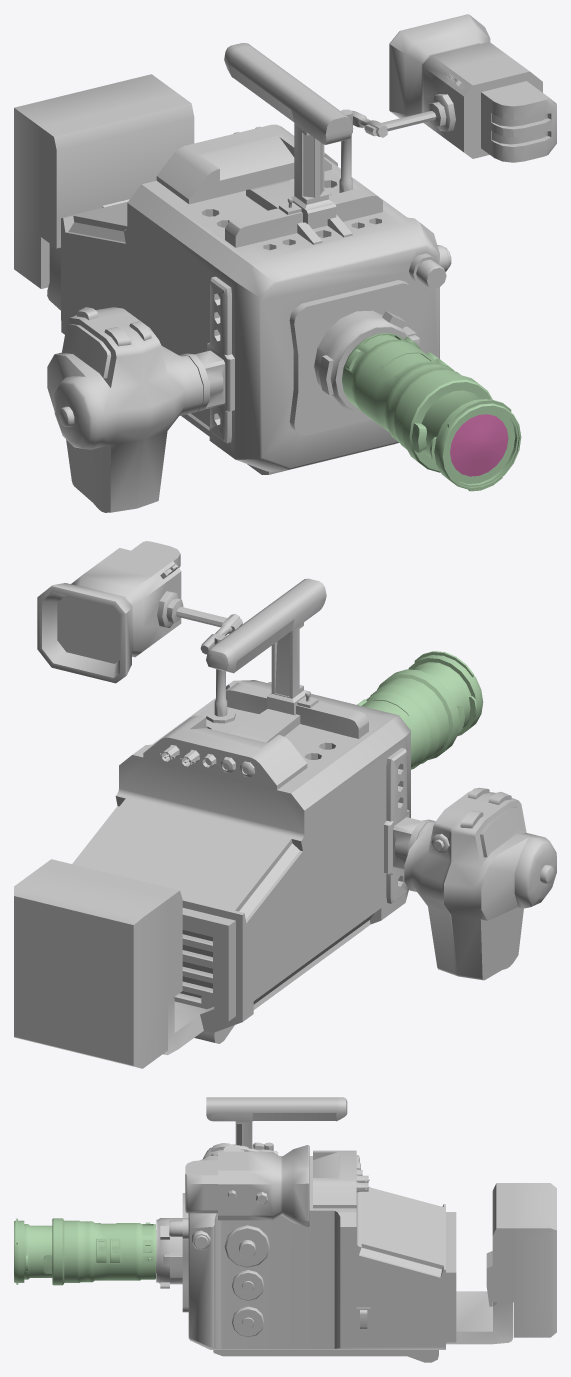
The model's file is Modern Digital Movie Camera Handheld.fbx.
3 views of the same model, one above another, from view 1: azimuth 30°, elevation 25°; view 2: azimuth 150°, elevation 25°; view 3: azimuth 270°, elevation 25° (orthographic). The views are drawn at different scales.
Visible parts, largest first — view 1: Cube; view 2: Cube; view 3: Cube.
Part boxes in pixels (bbox=[...]): Cube: bbox=[14, 14, 556, 512]; Cube: bbox=[14, 541, 556, 1068]; Cube: bbox=[14, 1097, 556, 1362].
Size of the model in its own units: 55.22 by 39.02 by 79.04.
